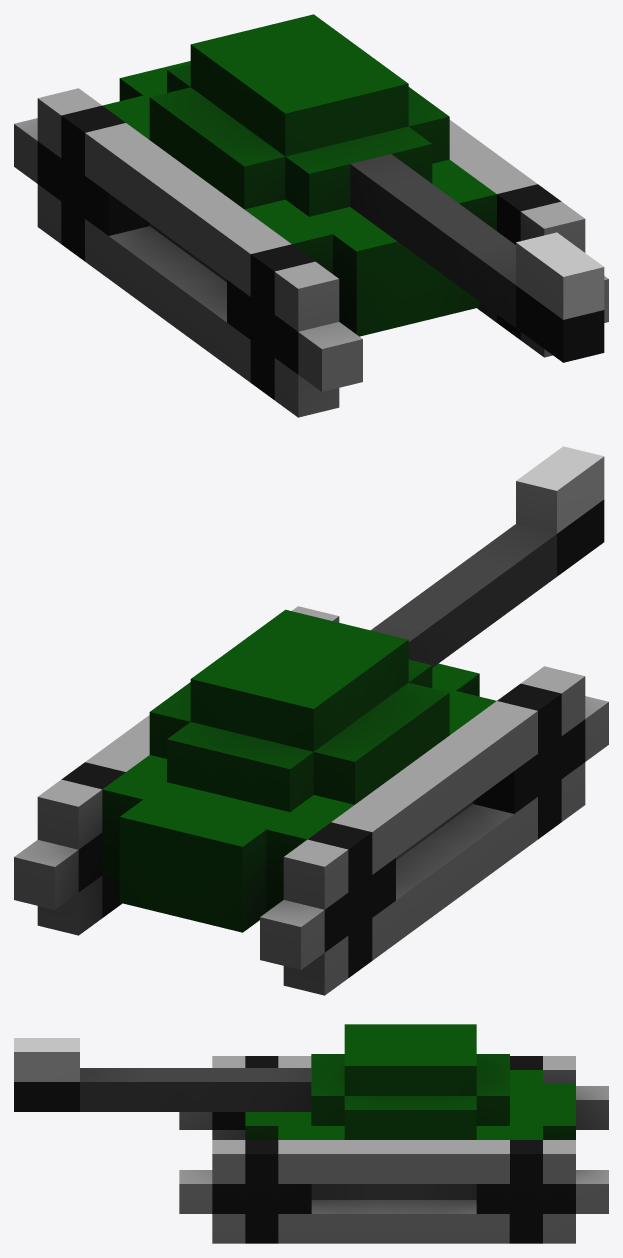
The model's file is tank1.fbx.
3 views of the same model, one above another, from view 1: azimuth 30°, elevation 25°; view 2: azimuth 150°, elevation 25°; view 3: azimuth 270°, elevation 25° (orthographic). The views are drawn at different scales.
Visible parts, largest first — view 1: body, tower; view 2: body, tower; view 3: body, tower.
Boxes of the visible parts, bbox=[...] form: body: bbox=[14, 61, 608, 417]; tower: bbox=[149, 14, 604, 362]; body: bbox=[14, 606, 608, 995]; tower: bbox=[149, 446, 604, 811]; body: bbox=[179, 1056, 608, 1243]; tower: bbox=[14, 1024, 509, 1139].
Size of the model in its own units: 7 by 5 by 18.
